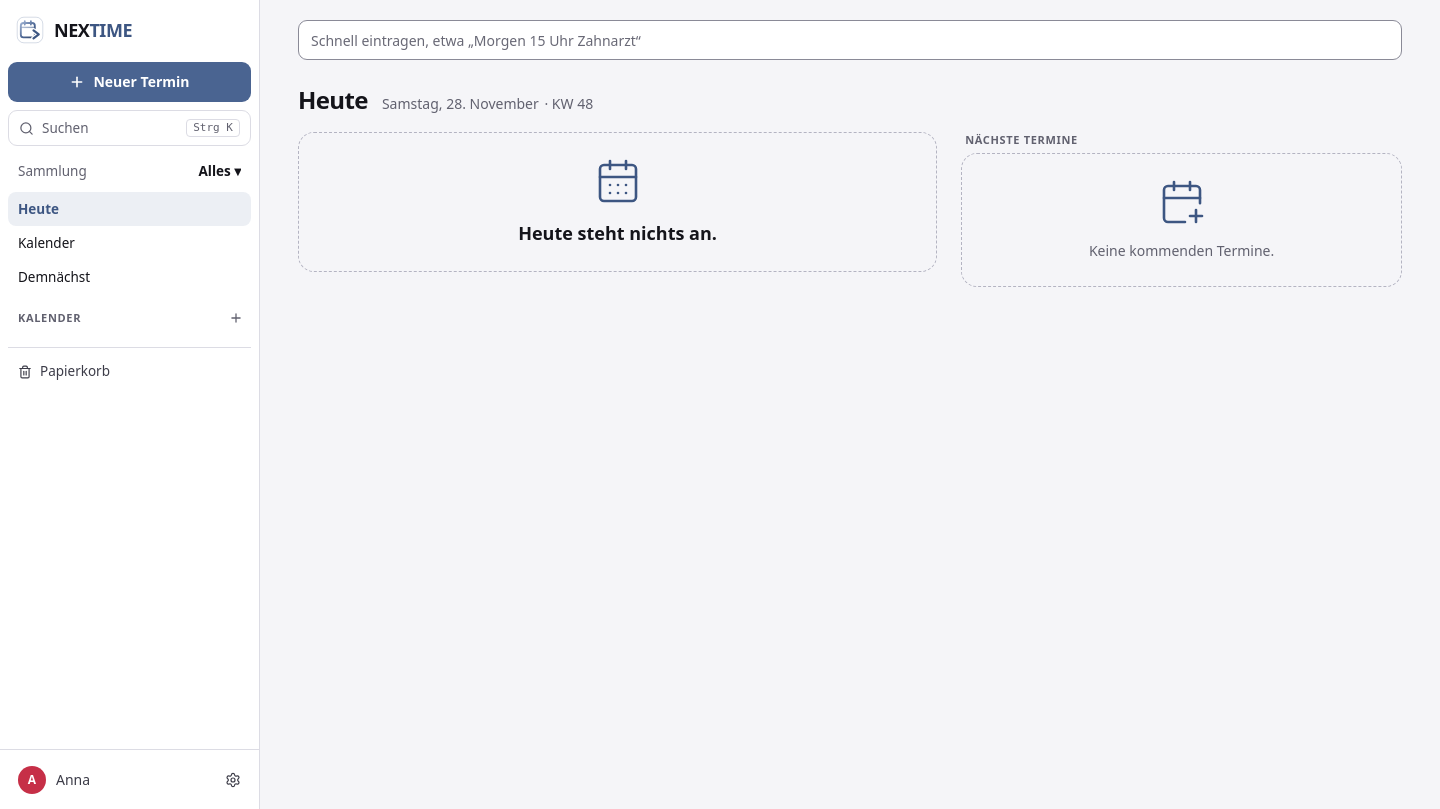
Test: TIME-2 My account › TIME-2 AC-7 "Einstellungen" leads to "Mein Konto" with its areas
Click the link "A Anna".
click(73, 780)  # box top-left (8, 758), bottom-right (251, 802)
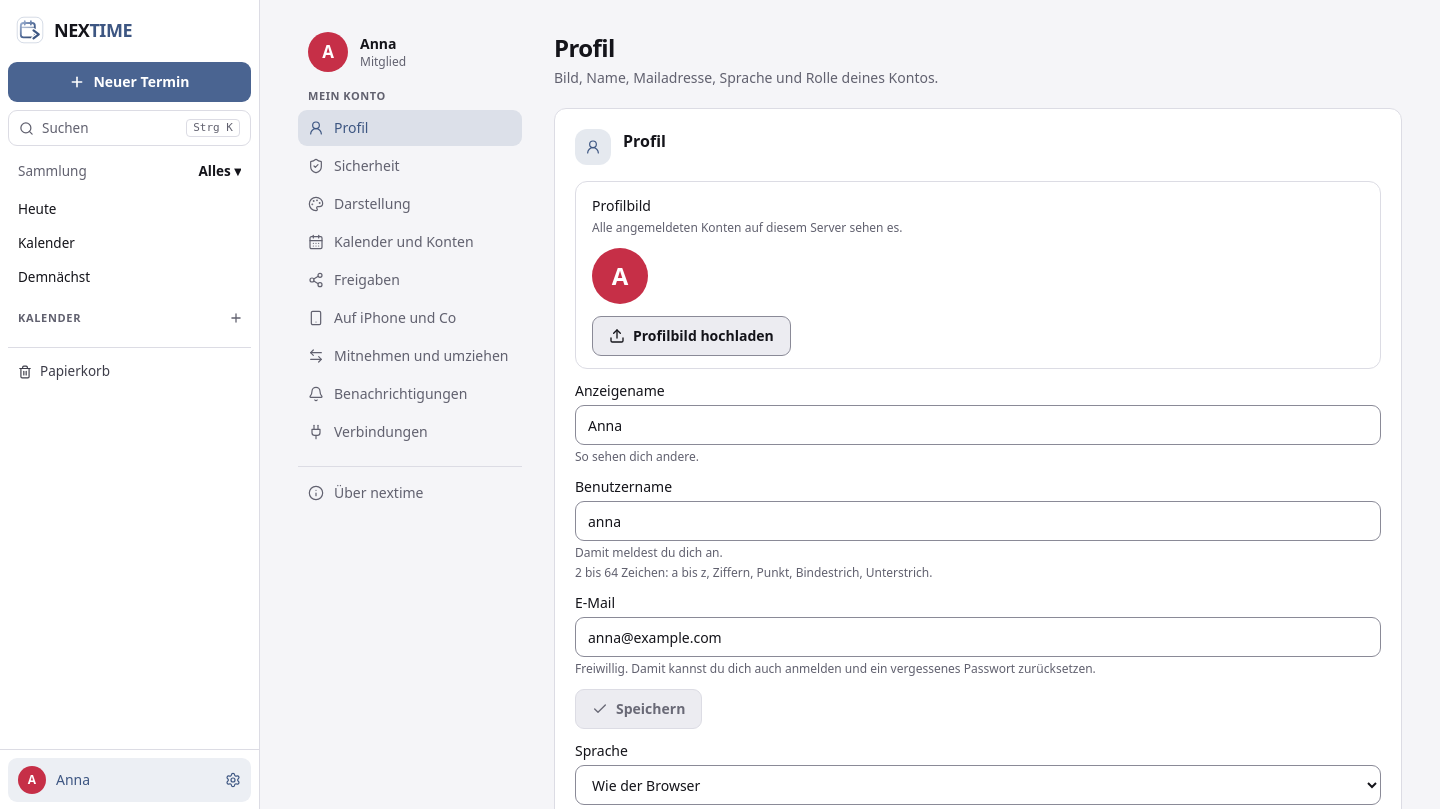
Expected: the 1st heading "Profil" is shown, top-left (554, 31), bottom-right (615, 64)
Expected: the text with id "settings-group-account" reads "Mein Konto", top-left (308, 88), bottom-right (386, 103)
Click the link "Freigaben".
click(354, 280)  # box top-left (308, 270), bottom-right (400, 289)
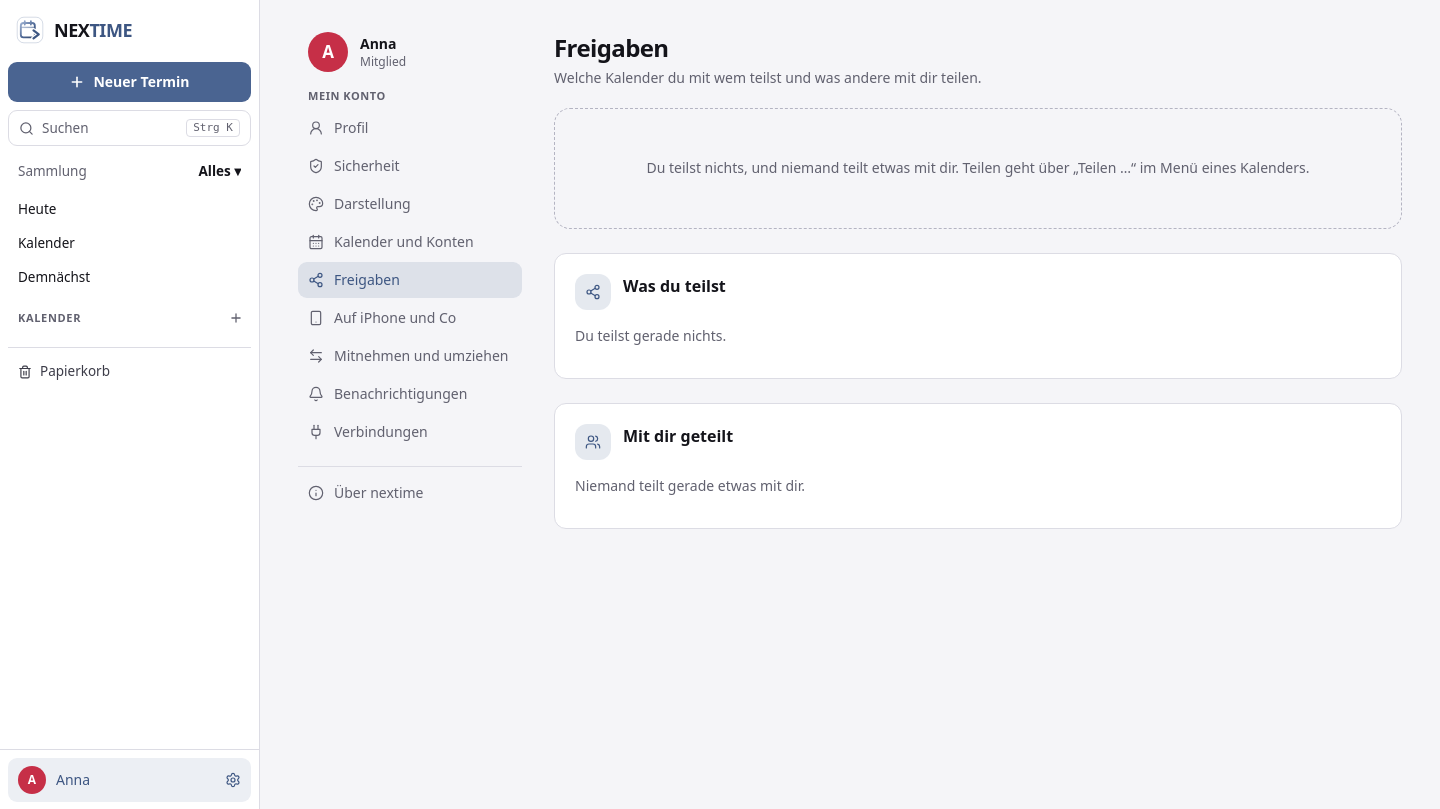
Expected: the heading "Freigaben" is shown, top-left (554, 31), bottom-right (668, 64)
Expected: the element with test id "shares-area" is shown, top-left (554, 108), bottom-right (1402, 529)
